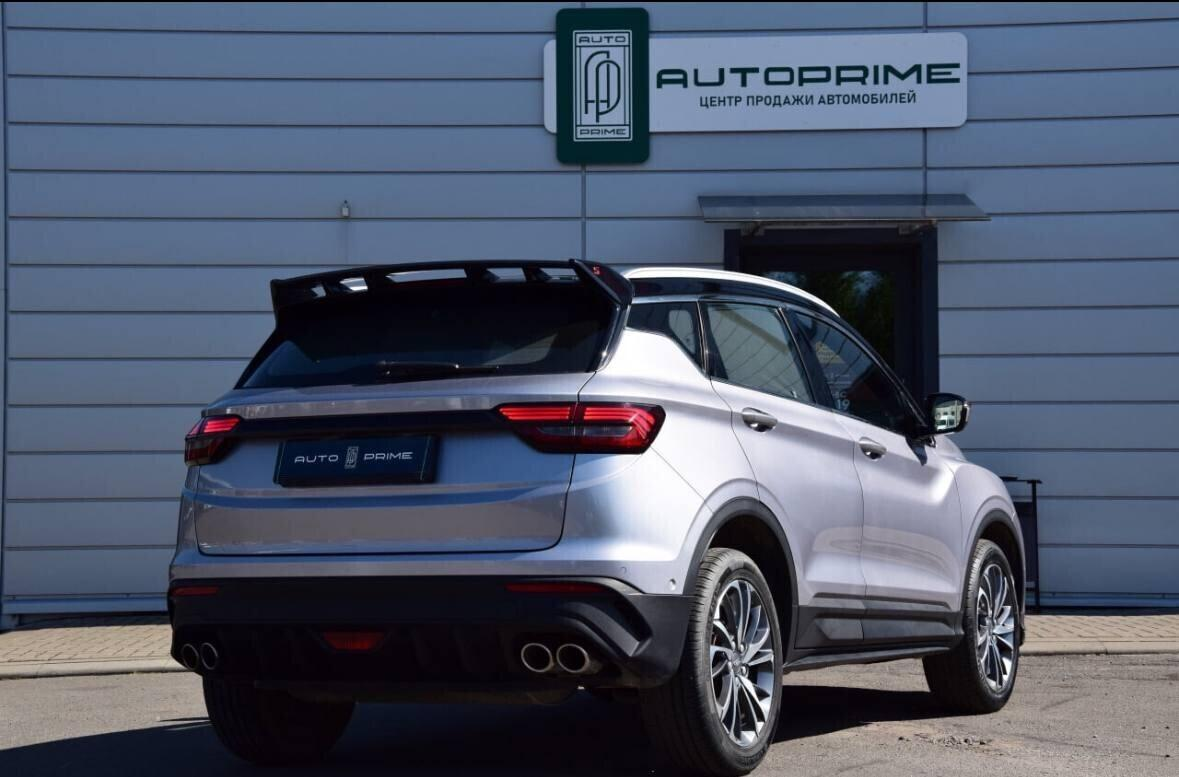Coolray_2019-2023: (161, 257, 1031, 767)
